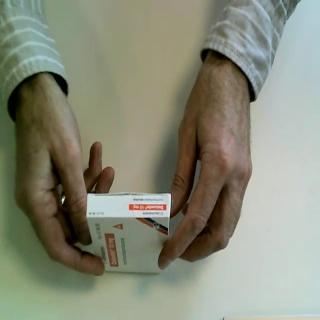dolcontin10mg: (85, 191, 173, 277)
